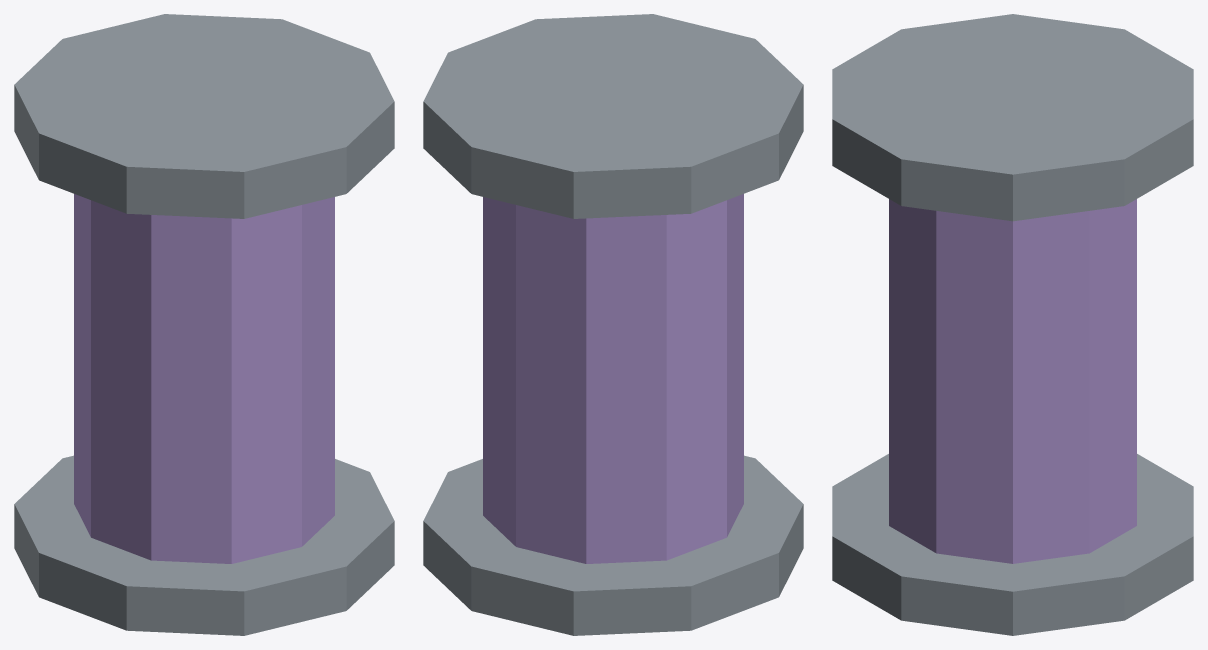
Rendered from portal_magico.glb.
3 views of the same model, side by side, from view 1: azimuth 30°, elevation 25°; view 2: azimuth 150°, elevation 25°; view 3: azimuth 270°, elevation 25° (orthographic).
Visible parts, largest first — view 1: part_001, part_003, part_000; view 2: part_001, part_003, part_000; view 3: part_001, part_003, part_000.
Boxes of the visible parts, x1,y1,x2,y2 form: part_001: (74, 194, 334, 563); part_003: (14, 14, 394, 218); part_000: (14, 455, 394, 635); part_001: (483, 194, 743, 563); part_003: (423, 14, 803, 218); part_000: (423, 455, 803, 635); part_001: (889, 199, 1136, 563); part_003: (832, 14, 1193, 221); part_000: (832, 454, 1193, 635).
Size of the model in its own units: 1.4 by 1.87 by 1.33.
